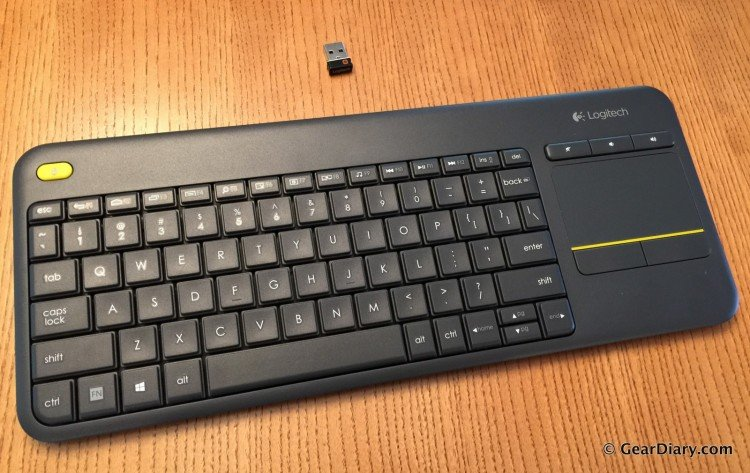logitech-keyboard-k400: (18, 84, 735, 441)
